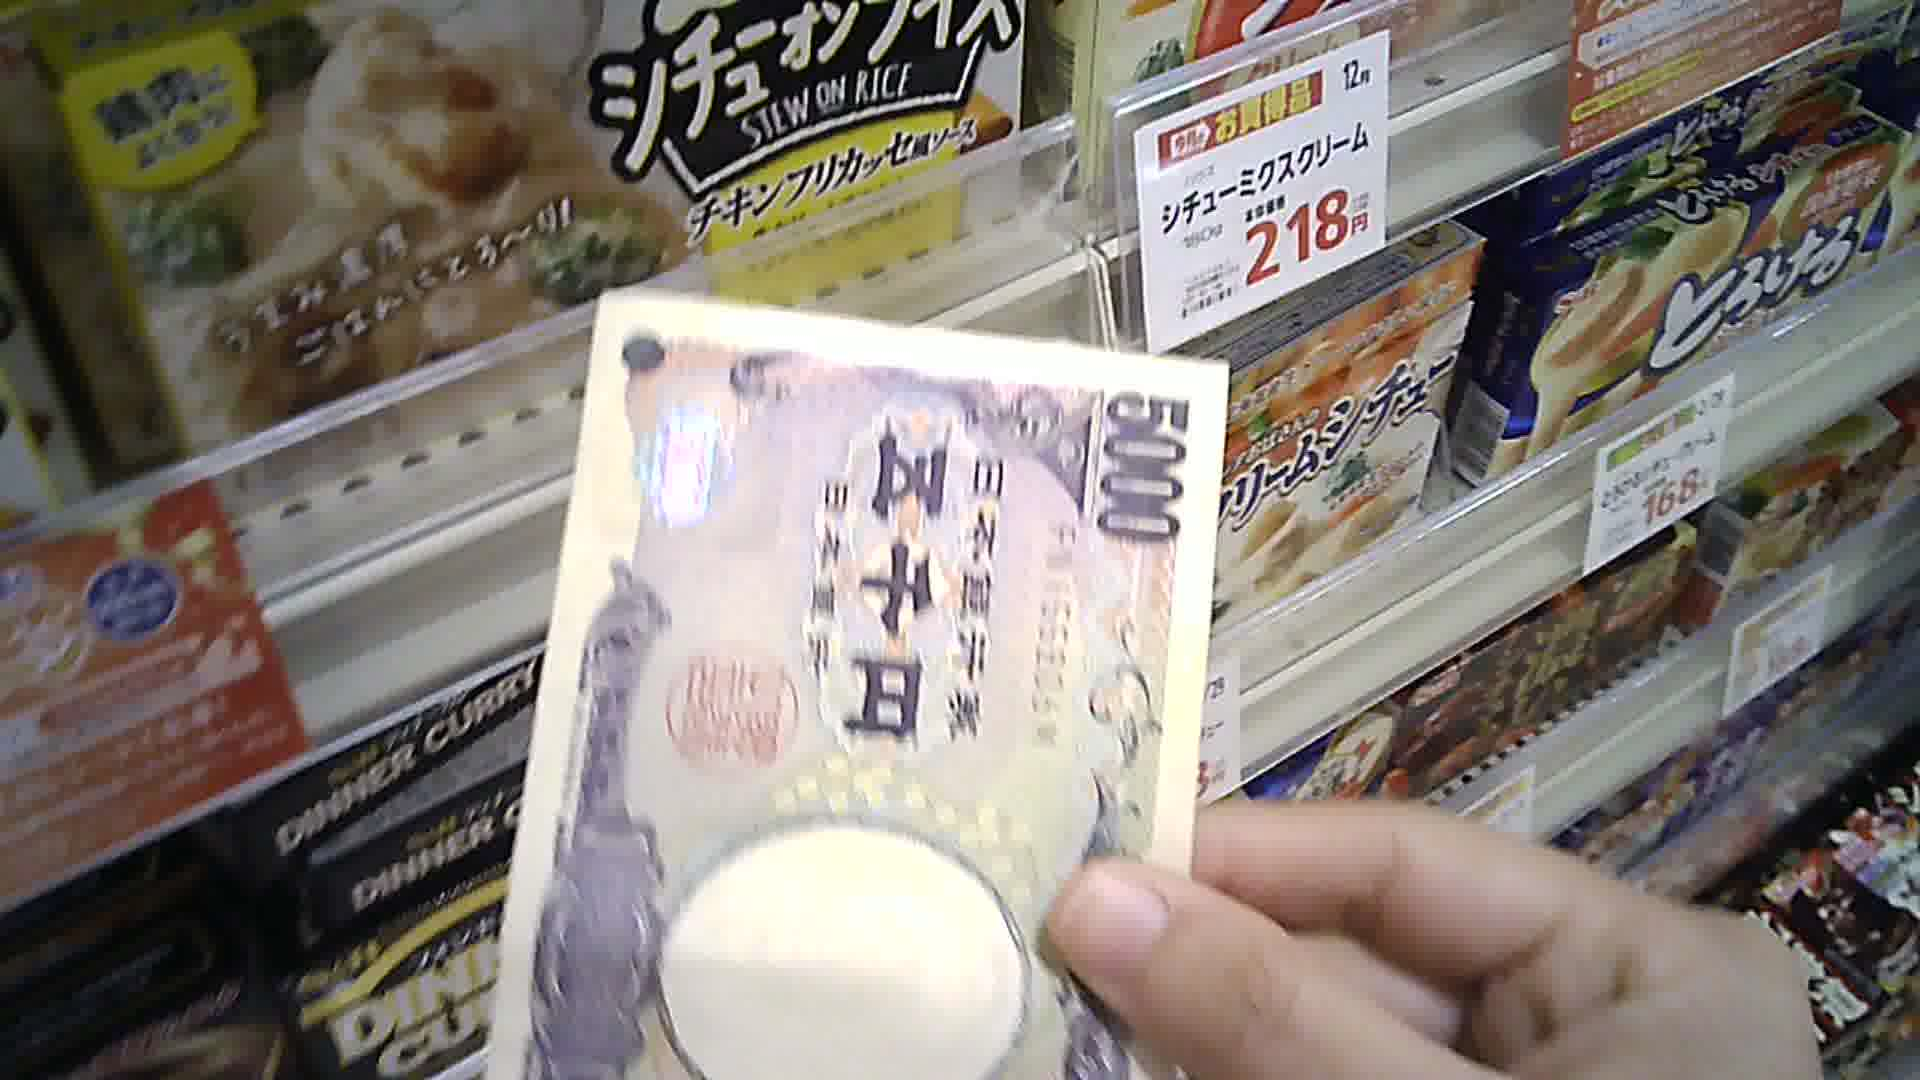5,000 Yen: (495, 255, 1236, 1079)
